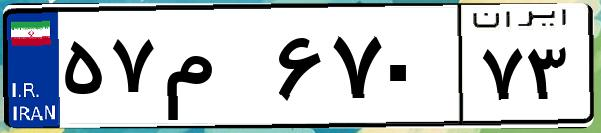0: (385, 28, 445, 110)
3: (525, 38, 570, 115)
5: (57, 26, 110, 100)
6: (270, 28, 330, 110)
7: (330, 28, 385, 110), (475, 38, 525, 113), (110, 28, 158, 98)
م: (158, 20, 270, 120)
